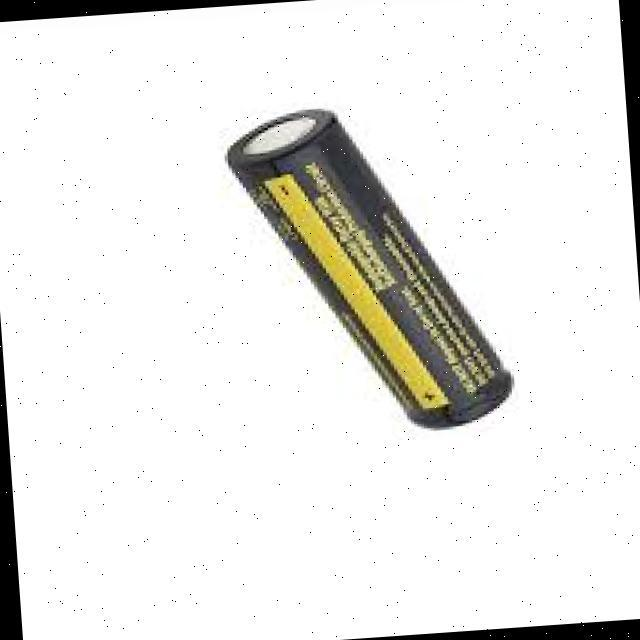AA: (225, 106, 513, 429)
